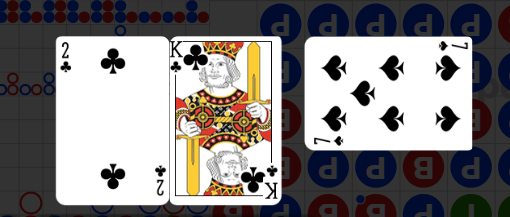2C: (59, 41, 73, 75)
7S: (436, 39, 469, 53), (312, 135, 346, 148)
